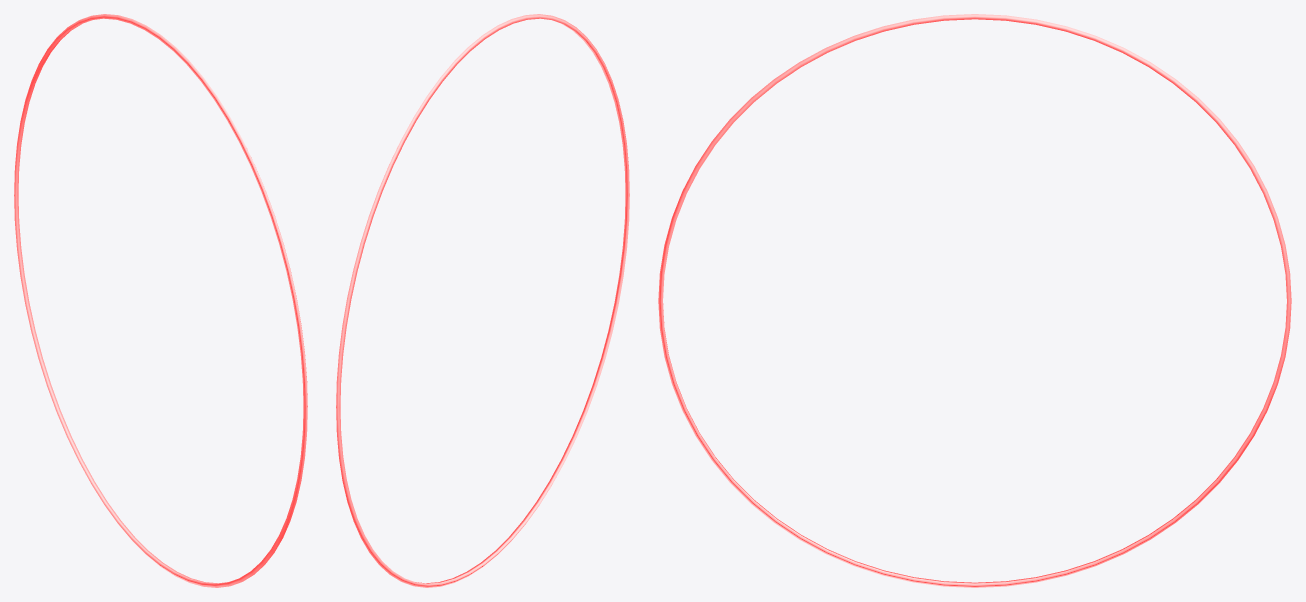
File: SatelliteOrbitPath.fbx
3 renders of one model, left to right at view 1: azimuth 30°, elevation 25°; view 2: azimuth 150°, elevation 25°; view 3: azimuth 270°, elevation 25°, orthographic. The views are drawn at different scales.
Parts seen in each view (by area): view 1: Sphere.001; view 2: Sphere.001; view 3: Sphere.001.
Part boxes in pixels (x1,y1,x2,y2): Sphere.001: (14,14,307,587); Sphere.001: (336,14,629,587); Sphere.001: (658,14,1291,587).
Bounding box in the file's own units: 2.18 × 252 × 252.
